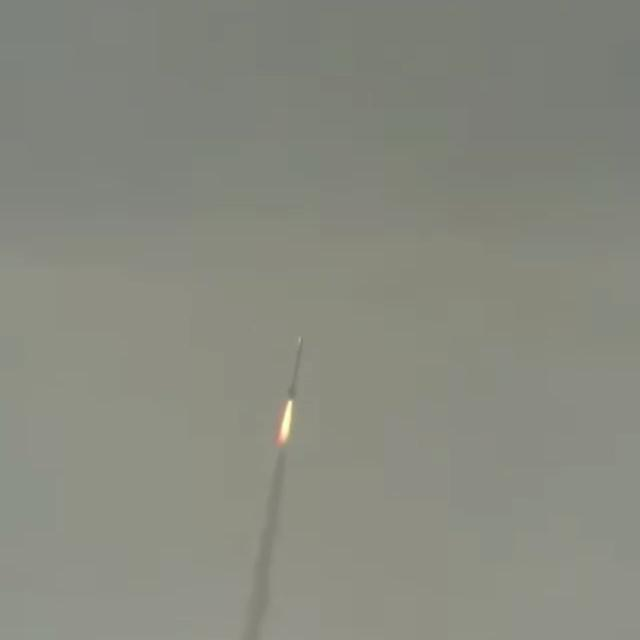smoke_trail_with_rocket: (239, 337, 305, 640)
